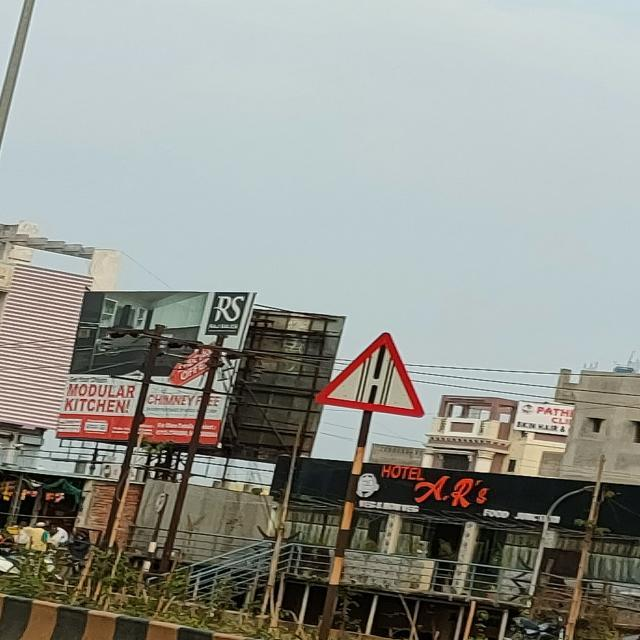gap in median: (311, 332, 426, 418)
